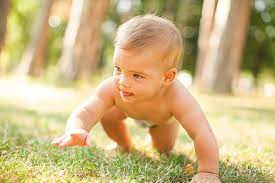child: (58, 10, 230, 183)
